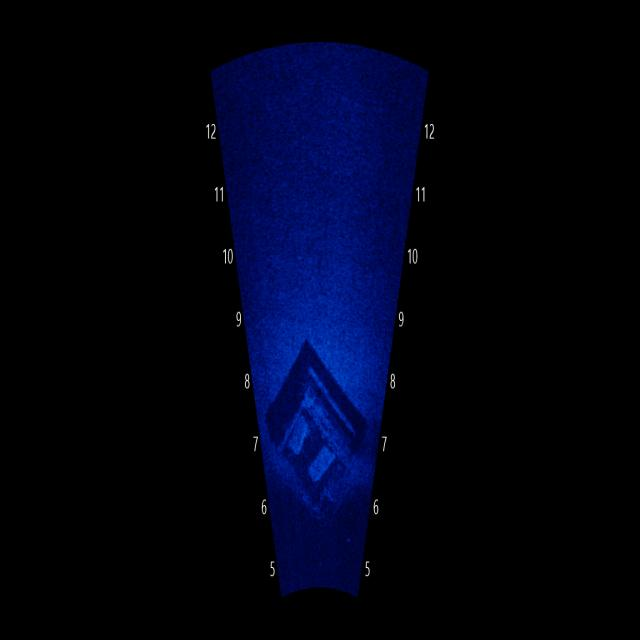square: (265, 334, 373, 531)
